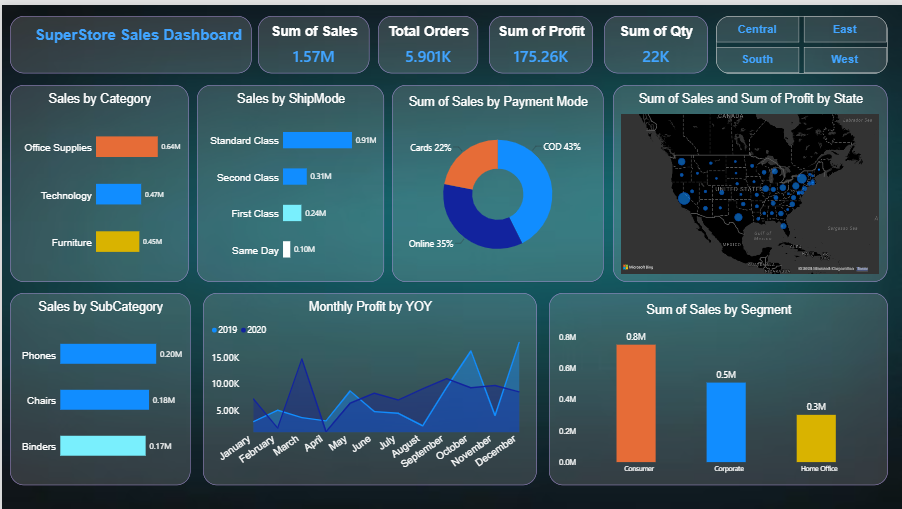

The page's visual inventory and layout, read from the dashboard file:
{"tool":"powerbi","page":{"name":"Page 1","canvas":[1920,1080],"ordinal":0},"visuals":[{"type":"clusteredBarChart","title":" Sales by Category","fields":{"Category":["Sheet1.Category"],"Y":["Sum(Sheet1.Sales)"]},"box":[16.5,169.3,379.9,419.1],"z":0},{"type":"clusteredBarChart","title":" Sales by  SubCategory","fields":{"Category":["Sheet1.Sub-Category"],"Y":["Sum(Sheet1.Sales)"]},"box":[16.5,613.2,384,408.8],"z":1000},{"type":"clusteredBarChart","title":" Sales by ShipMode","fields":{"Category":["Sheet1.Ship Mode"],"Y":["Sum(Sheet1.Sales)"]},"box":[415,169.3,398.5,419.1],"z":2000},{"type":"areaChart","title":"Monthly Profit  by YOY","fields":{"Category":["Sheet1.Order Date.Variation.Date Hierarchy.Month","Sheet1.Order Date.Variation.Date Hierarchy.Day"],"Series":["Sheet1.Order Date.Variation.Date Hierarchy.Year"],"Y":["Sum(Sheet1.Profit)"]},"box":[427.4,613.2,710.2,408.8],"z":3000},{"type":"map","fields":{"Category":["Sheet1.State"],"Size":["Sum(Sheet1.Sales)"]},"box":[1300.6,169.3,584.3,419.1],"z":4000},{"type":"columnChart","fields":{"Category":["Sheet1.Segment"],"Y":["Sum(Sheet1.Sales)"]},"box":[1164.4,613.2,720.5,408.8],"z":5000},{"type":"donutChart","fields":{"Category":["Sheet1.Payment Mode"],"Y":["Sum(Sheet1.Sales)"]},"box":[829.9,169.3,450.1,419.1],"z":6000},{"type":"advancedSlicerVisual","fields":{"Values":["Sheet1.Region"]},"box":[1520,22.5,365,122.5],"z":7000},{"type":"textbox","box":[16.5,22.7,514.1,121.8],"z":8000},{"type":"cardVisual","title":"Sum of Sales","fields":{"Data":["Sum(Sheet1.Sales)"]},"box":[545,22.7,237.4,121.8],"z":9000},{"type":"cardVisual","title":"Total Orders","fields":{"Data":["CountNonNull(Sheet1.Order ID)"]},"box":[801,22.7,212.6,121.8],"z":10000},{"type":"cardVisual","title":"Sum of Profit","fields":{"Data":["Sum(Sheet1.Profit)"]},"box":[1036.4,22.7,220.9,121.8],"z":11000},{"type":"cardVisual","title":"Sum of Qty","fields":{"Data":["Sum(Sheet1.Quantity)"]},"box":[1280,22.7,220.9,121.8],"z":12000}]}

Visuals, with their boxes in screenshot pixels (x1, y1, x2, y2), scaled from the page's 1920x1080 canvas onto the 902x509 screenshot:
" Sales by Category" clusteredBarChart: box(8, 80, 186, 277)
" Sales by  SubCategory" clusteredBarChart: box(8, 289, 188, 482)
" Sales by ShipMode" clusteredBarChart: box(195, 80, 382, 277)
"Monthly Profit  by YOY" areaChart: box(201, 289, 534, 482)
map - Sheet1.State x Sum(Sheet1.Sales): box(611, 80, 886, 277)
columnChart - Sheet1.Segment x Sum(Sheet1.Sales): box(547, 289, 886, 482)
donutChart - Sheet1.Payment Mode x Sum(Sheet1.Sales): box(390, 80, 601, 277)
advancedSlicerVisual - Sheet1.Region: box(714, 11, 886, 68)
textbox: box(8, 11, 249, 68)
"Sum of Sales" cardVisual: box(256, 11, 368, 68)
"Total Orders" cardVisual: box(376, 11, 476, 68)
"Sum of Profit" cardVisual: box(487, 11, 591, 68)
"Sum of Qty" cardVisual: box(601, 11, 705, 68)
